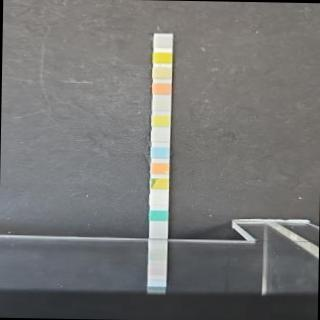mark: (149, 193, 167, 206), (153, 82, 170, 95), (150, 176, 168, 188), (150, 146, 168, 158), (153, 36, 171, 48), (150, 209, 167, 221), (151, 162, 168, 174), (153, 98, 170, 110), (153, 66, 170, 78), (151, 115, 169, 126), (152, 130, 168, 142), (153, 52, 171, 62)
